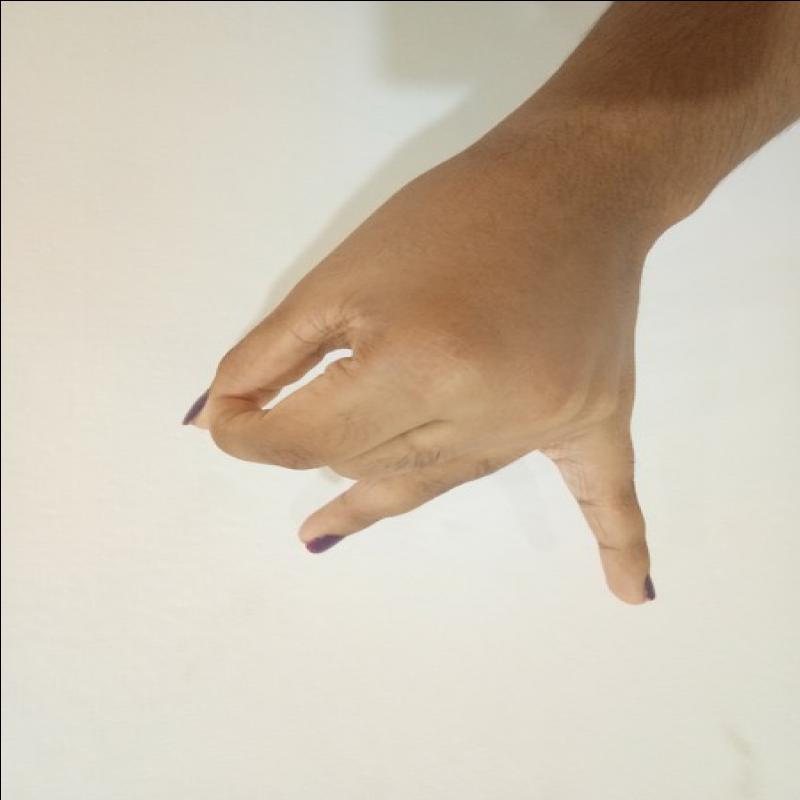Katakam: (158, 178, 681, 659)
